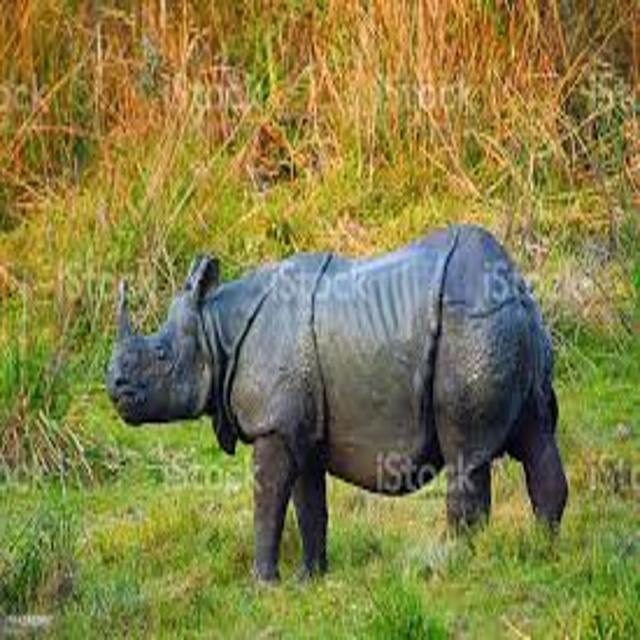rhino: (86, 199, 599, 606)
